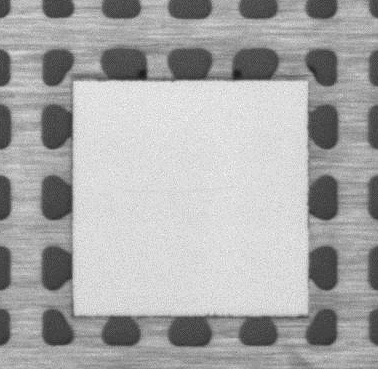DIE_CRACK: (124, 181, 236, 196)
